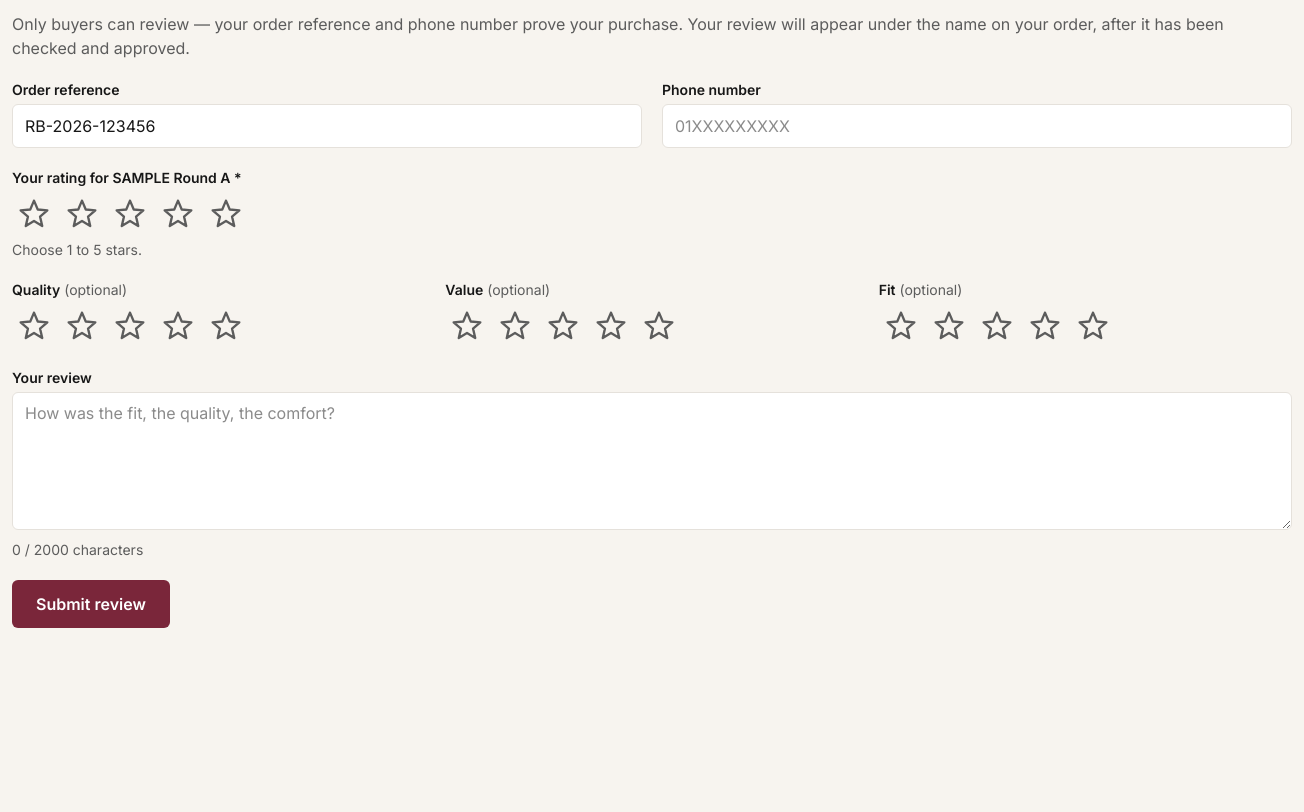
ReviewForm › shows plain-words errors for missing reference, rating, and body
This screenshot has width=1304, height=812.
Click the button "Submit review": (91, 604) 12,580 -> 170,628
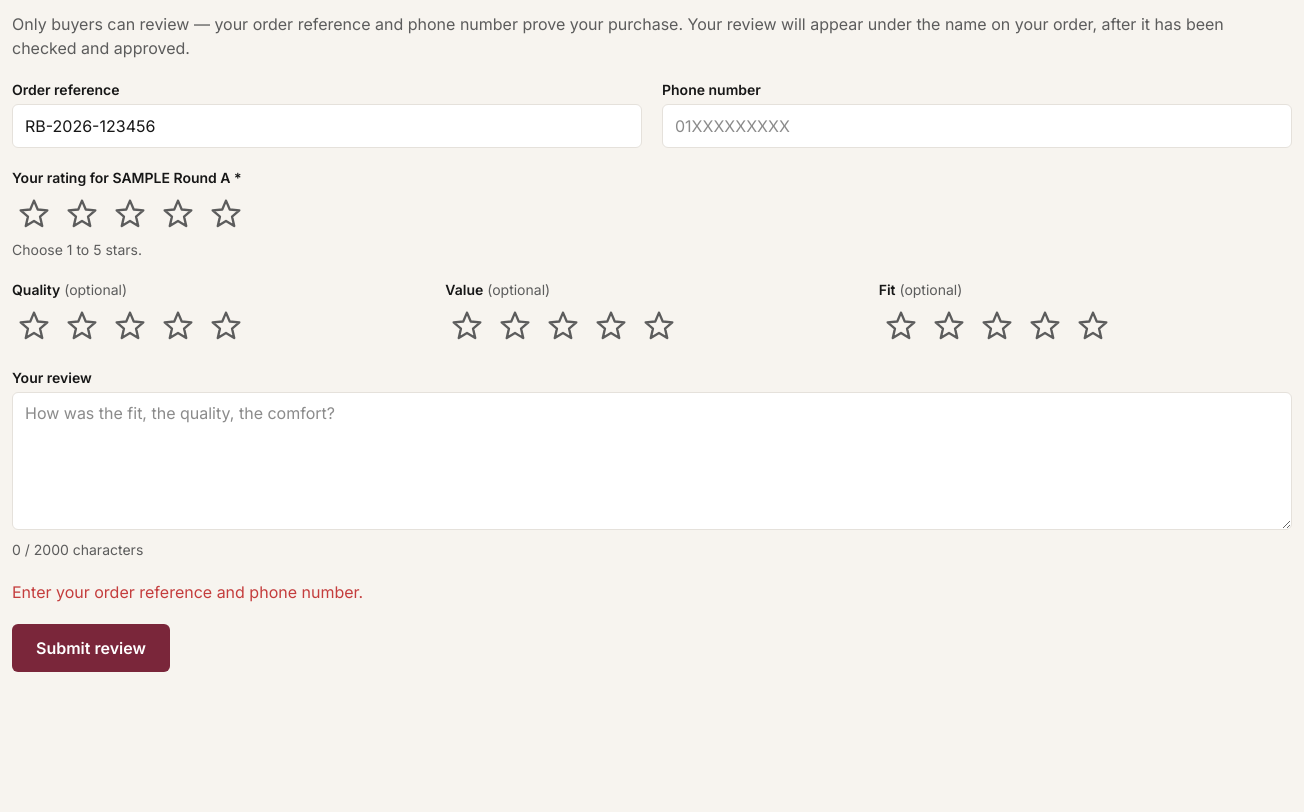
Expected: the message reads "Enter your order reference and phone number.", 12,582 -> 363,602
